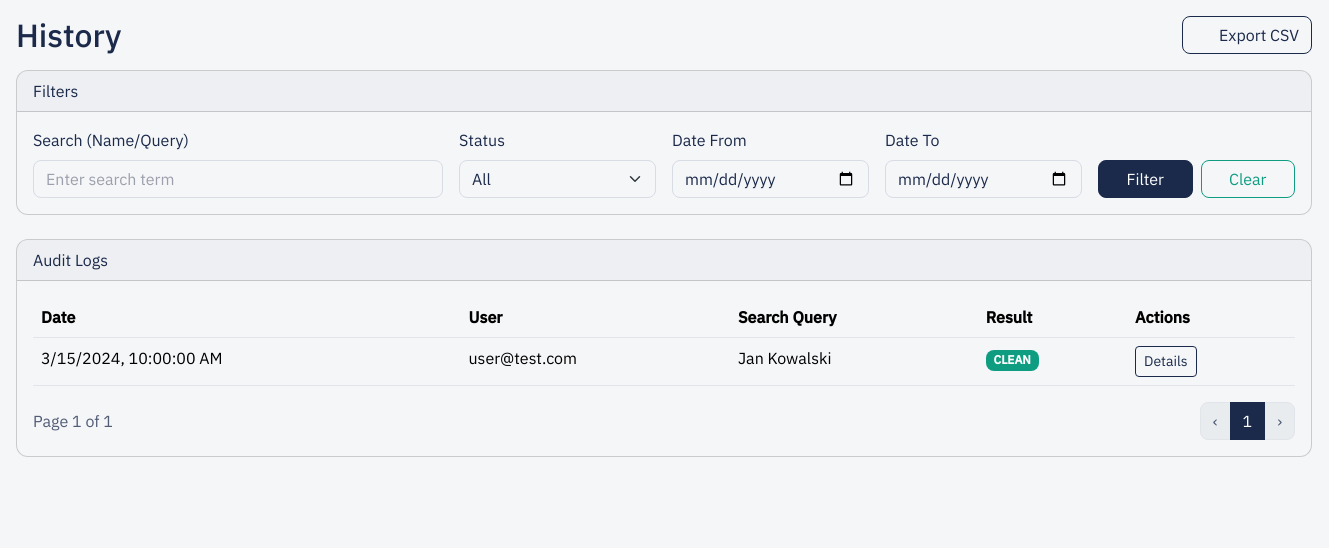
HistoryPage › CSV export › shows an error alert when export fails
Expected: the table with test id "history-table" is shown, [33, 297, 1295, 386]
Click the button with test id "export-csv-btn" at (1247, 35), box [1182, 16, 1312, 54]
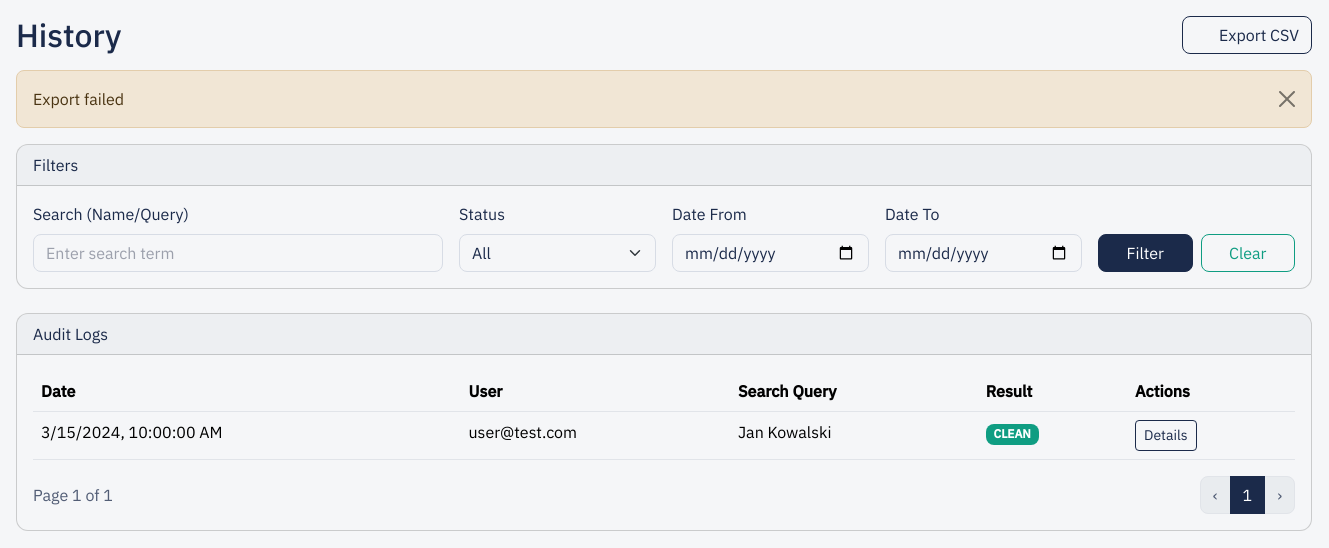
Expected: the text "Export failed" is shown, [16, 70, 1312, 128]
